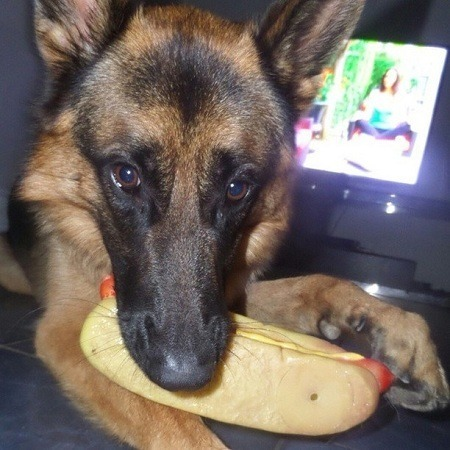dog: (32, 1, 341, 389)
hotdog: (76, 293, 395, 432)
